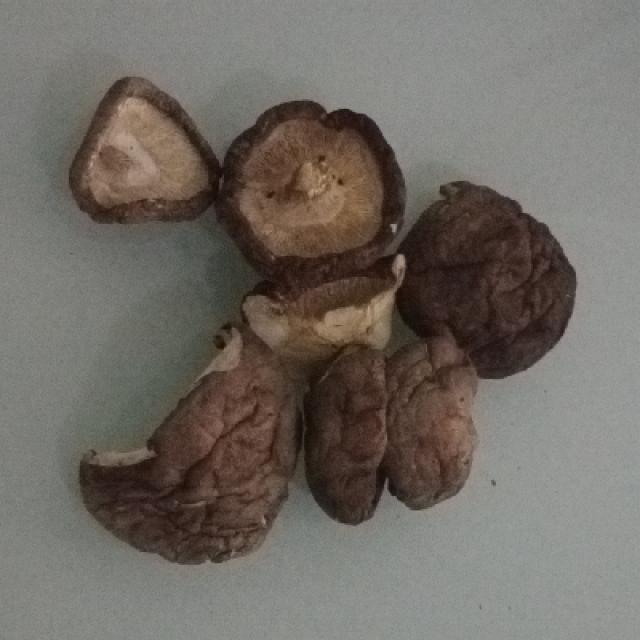Lentinus edodes: (79, 322, 300, 562), (217, 99, 401, 287), (409, 186, 581, 379), (72, 79, 219, 216), (308, 344, 405, 521)
